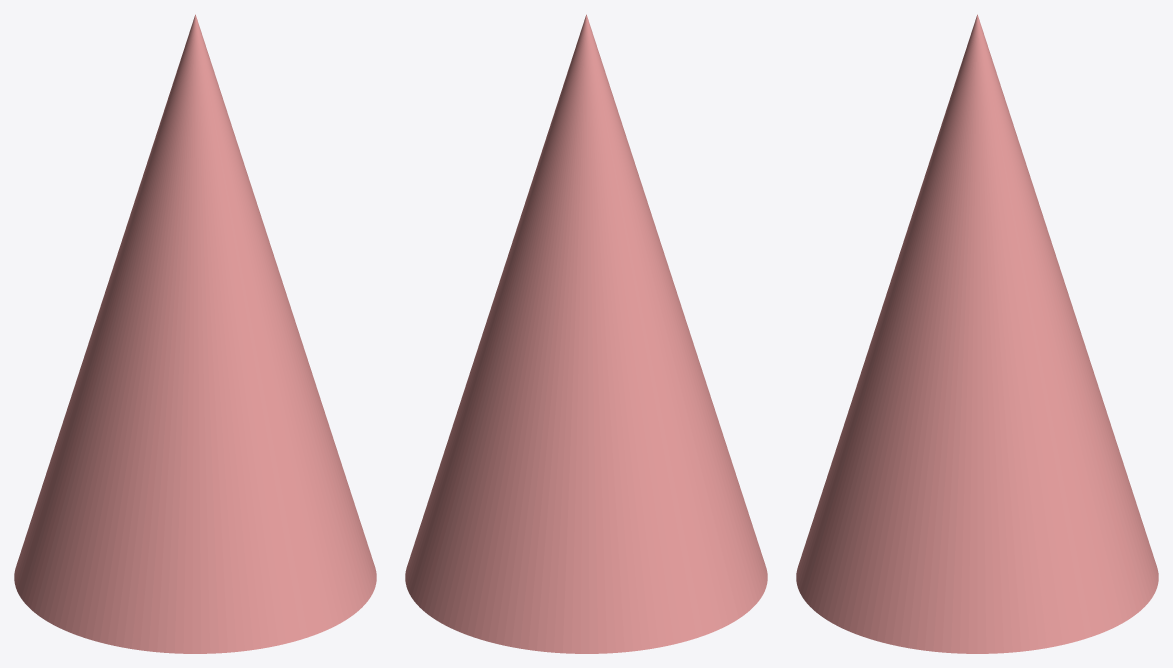
File: konos.glb
The picture shows the model from 3 angles, left to right: view 1: azimuth 30°, elevation 25°; view 2: azimuth 150°, elevation 25°; view 3: azimuth 270°, elevation 25°; orthographic projection.
Parts seen in each view (by area): view 1: konos_0; view 2: konos_0; view 3: konos_0.
Part boxes in pixels (x1,y1,x2,y2): konos_0: (14,14,376,653); konos_0: (405,14,767,653); konos_0: (796,14,1158,653).
Bounding box in the file's own units: 0.14 × 0.24 × 0.14.
